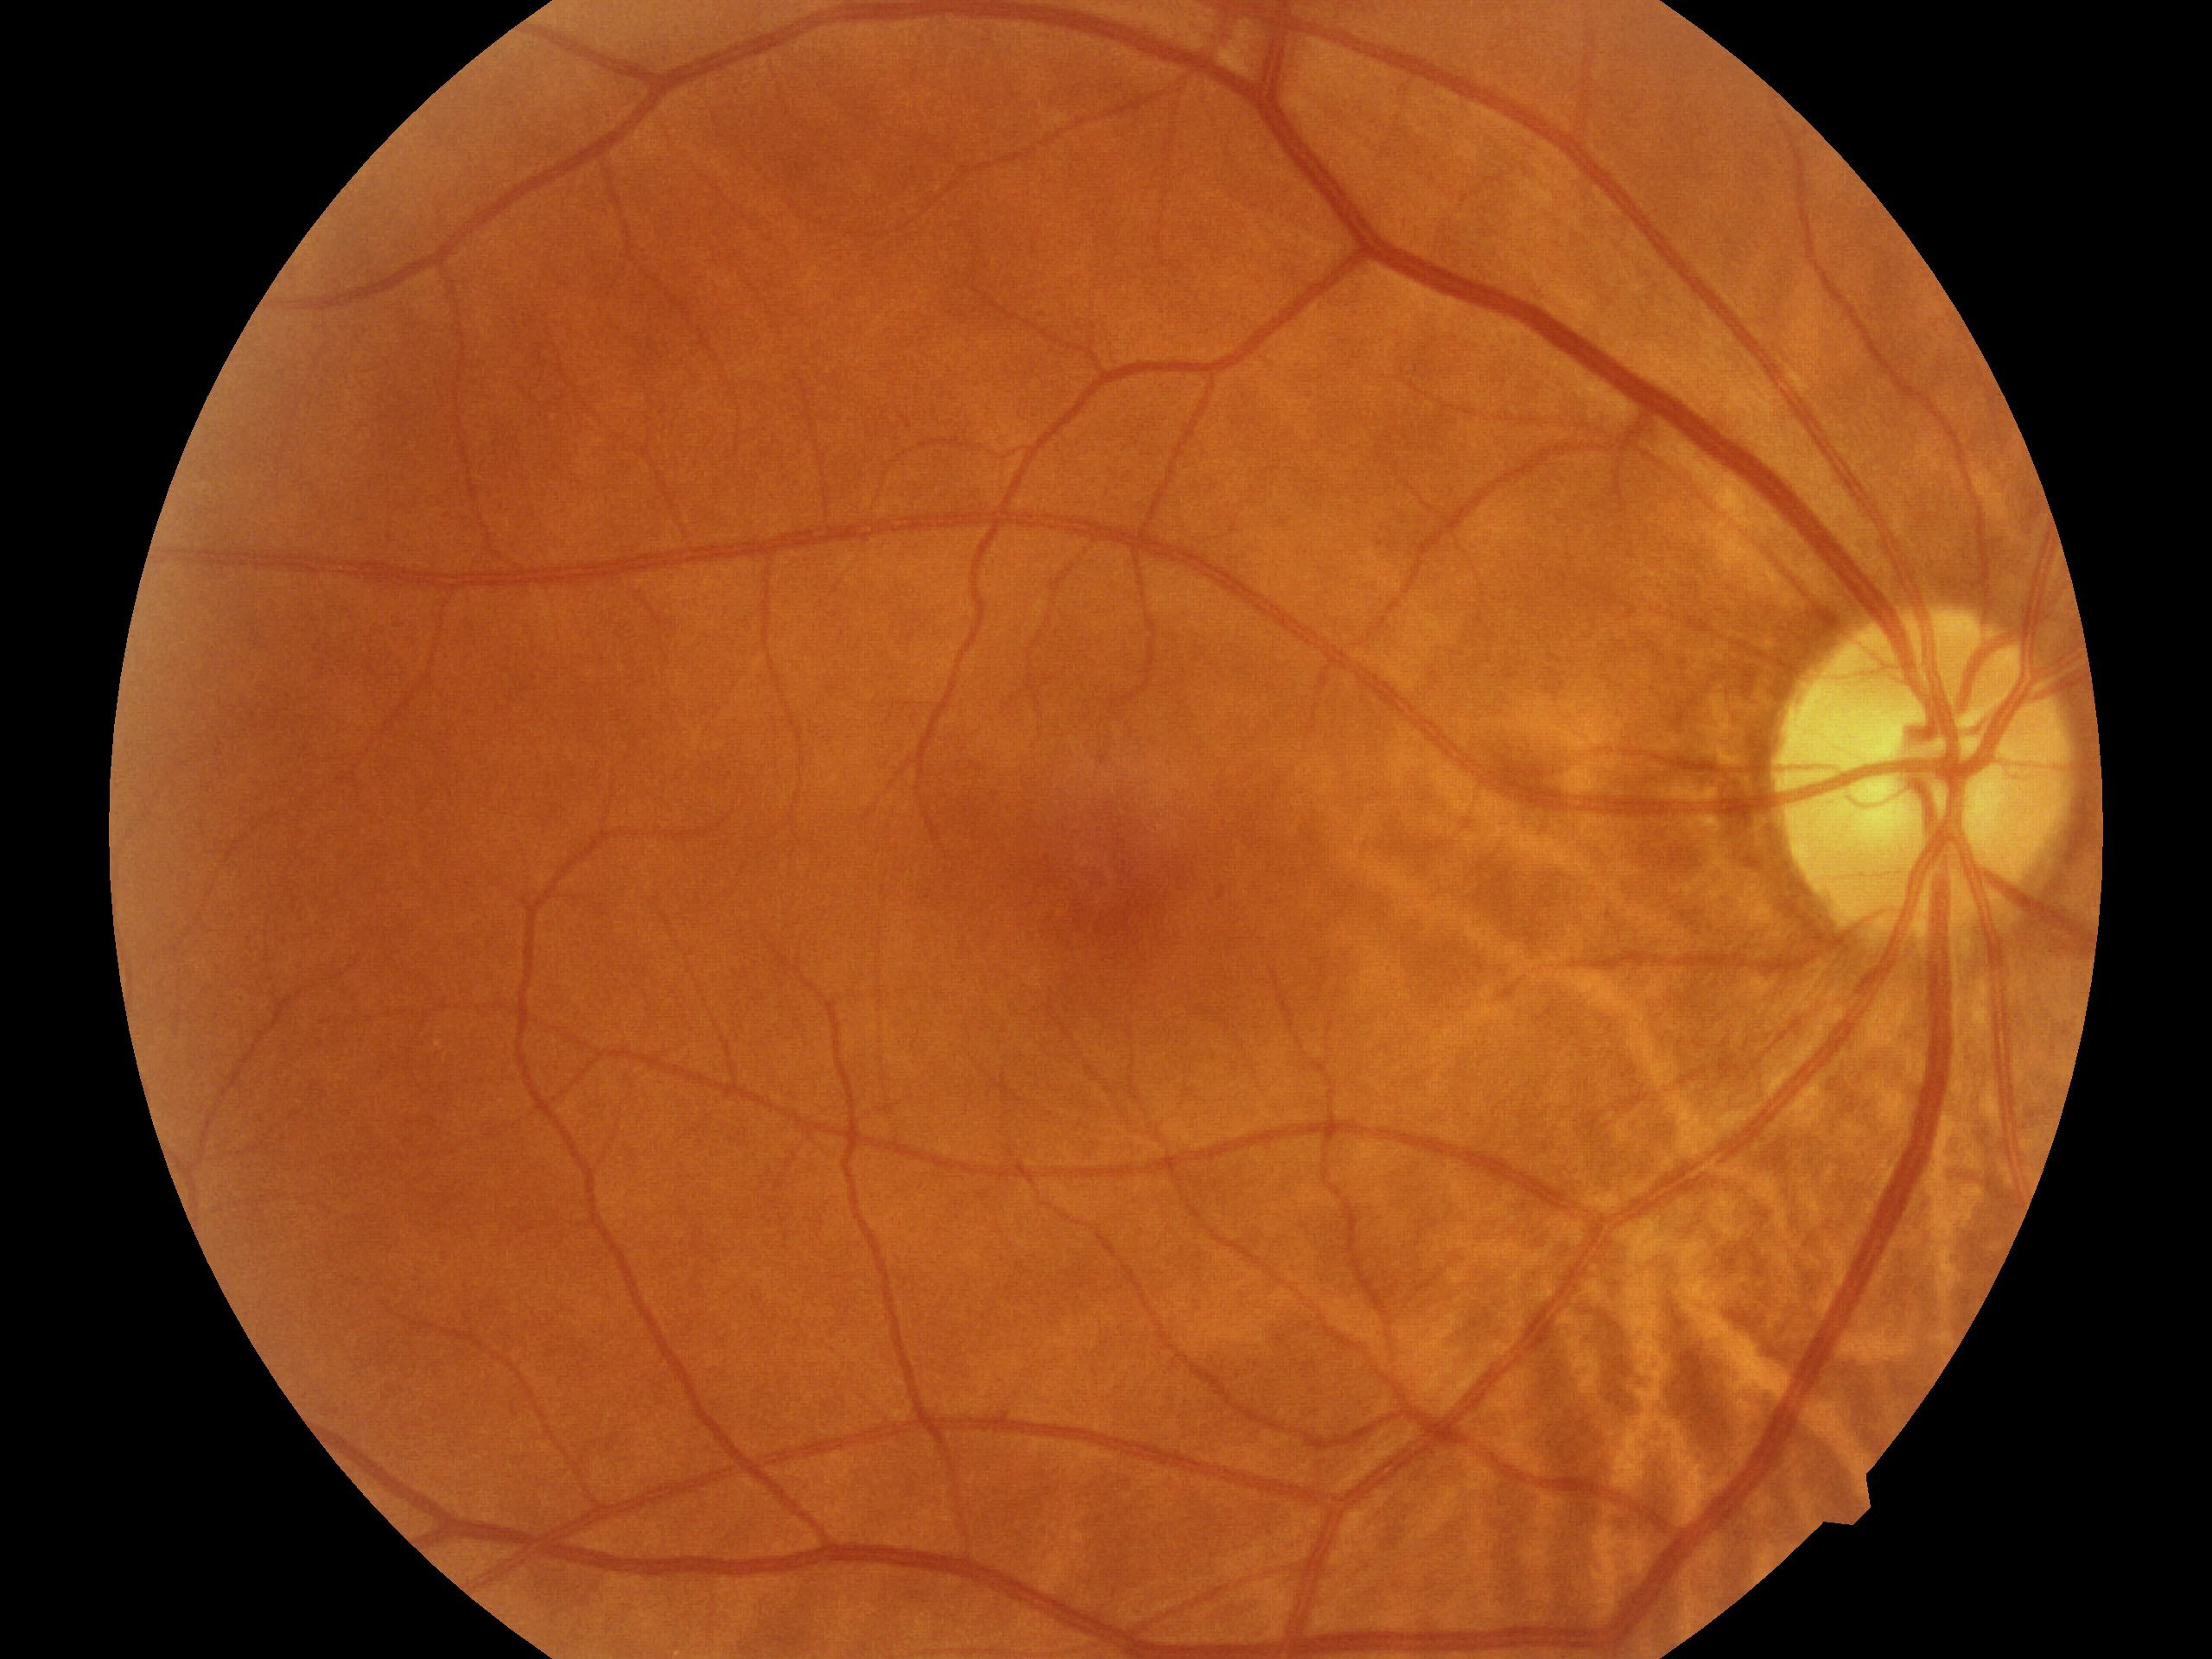Hemorrhages: (972, 791, 1249, 1040)
Optic-Disc: (1770, 566, 2083, 988)
Venules: (1264, 73, 1770, 491), (611, 1493, 1670, 1631)
